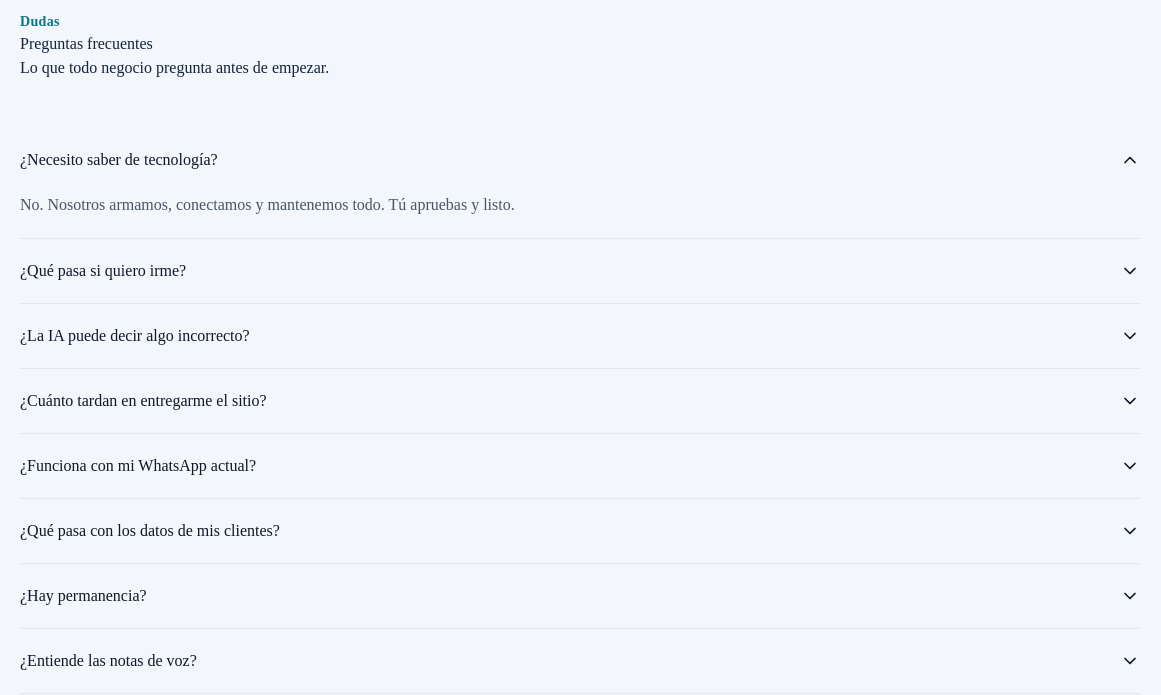
Test: FaqSection › reveals an answer when its question is clicked
Click the button "¿Cuánto tardan en entregarme el sitio?": (143, 400) [20,369,1140,433]
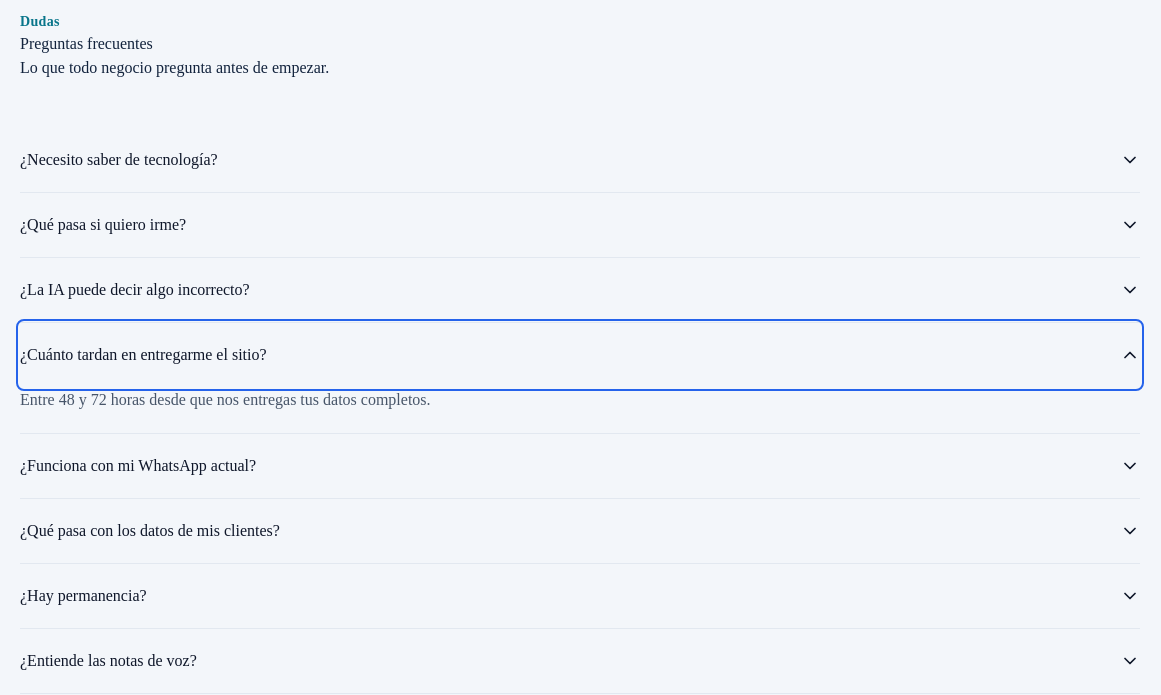
expect the button "¿Cuánto tardan en entregarme el sitio?" is expanded: met, box [20,323,1140,387]
expect the button "¿Necesito saber de tecnología?" is collapsed: met, box [20,128,1140,192]
